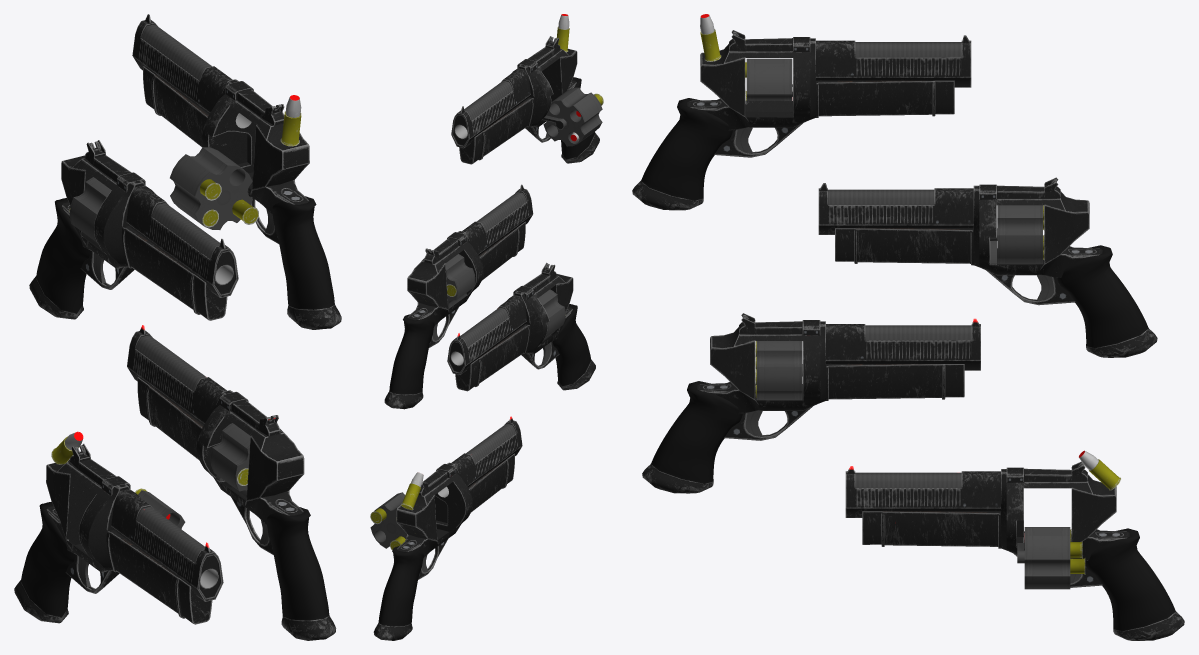
The model's file is Revolver_50.fbx.
3 renders of one model, left to right at view 1: azimuth 30°, elevation 25°; view 2: azimuth 150°, elevation 25°; view 3: azimuth 270°, elevation 25°, orthographic. The views are drawn at different scales.
Parts seen in each view (by area): view 1: Body.003, Body.002, Handline.002, Handline.003, Barrel.004, Barrel, Handline_2.004, Handline_2, Body.004, Barrel.003, Barrel.002, Handline.004 (+12 smaller); view 2: Body.004, Body, Handline.004, Handline, Barrel.003, Barrel.002, Handline_2.003, Handline_2.002, Barrel.004, Drum.003, Barrel, Handline.002 (+8 smaller); view 3: Body.003, Barrel.004, Barrel, Body.002, Barrel.003, Barrel.002, Body, Handline.002, Handline.003, Handline.004, Handline, Body.004 (+11 smaller).
Boxes of the visible parts, left/top/right/bottom form: Body.003: left=202, top=81, right=309, bottom=213; Body.002: left=196, top=391, right=304, bottom=524; Handline.002: left=267, top=507, right=336, bottom=640; Handline.003: left=272, top=196, right=341, bottom=329; Barrel.004: left=111, top=489, right=223, bottom=601; Barrel: left=126, top=185, right=238, bottom=297; Handline_2.004: left=88, top=484, right=212, bottom=624; Handline_2: left=103, top=180, right=227, bottom=320; Body.004: left=46, top=456, right=135, bottom=572; Barrel.003: left=132, top=14, right=251, bottom=128; Barrel.002: left=127, top=325, right=226, bottom=424; Handline.004: left=14, top=501, right=75, bottom=623; Body.004: left=396, top=464, right=472, bottom=557; Body: left=407, top=232, right=483, bottom=325; Handline.004: left=373, top=546, right=423, bottom=640; Handline: left=384, top=314, right=434, bottom=409; Barrel.003: left=451, top=68, right=530, bottom=148; Barrel.002: left=447, top=295, right=526, bottom=374; Handline_2.003: left=459, top=64, right=547, bottom=164; Handline_2.002: left=455, top=291, right=543, bottom=391; Barrel.004: left=438, top=416, right=522, bottom=497; Drum.003: left=543, top=87, right=602, bottom=146; Barrel: left=462, top=184, right=533, bottom=255; Handline.002: left=552, top=304, right=595, bottom=390; Body.003: left=687, top=37, right=810, bottom=130; Barrel.004: left=845, top=466, right=1000, bottom=517; Barrel: left=818, top=183, right=973, bottom=234; Body.002: left=697, top=320, right=820, bottom=413; Barrel.003: left=816, top=35, right=971, bottom=87; Barrel.002: left=826, top=318, right=980, bottom=370; Body: left=979, top=184, right=1102, bottom=277; Handline.002: left=642, top=381, right=742, bottom=493; Handline.003: left=632, top=98, right=732, bottom=210; Handline.004: left=1085, top=528, right=1184, bottom=640; Handline: left=1057, top=245, right=1157, bottom=357; Body.004: left=1006, top=467, right=1129, bottom=560.
Size of the model in its own units: 0.3086 by 1.4 by 1.12.
